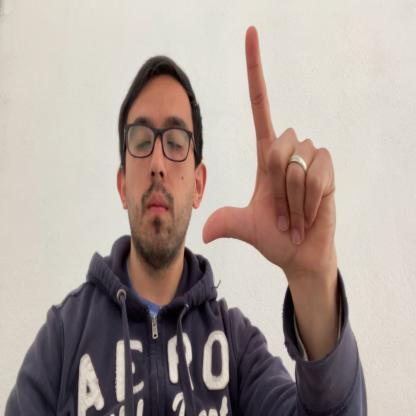L: (203, 26, 336, 277)
